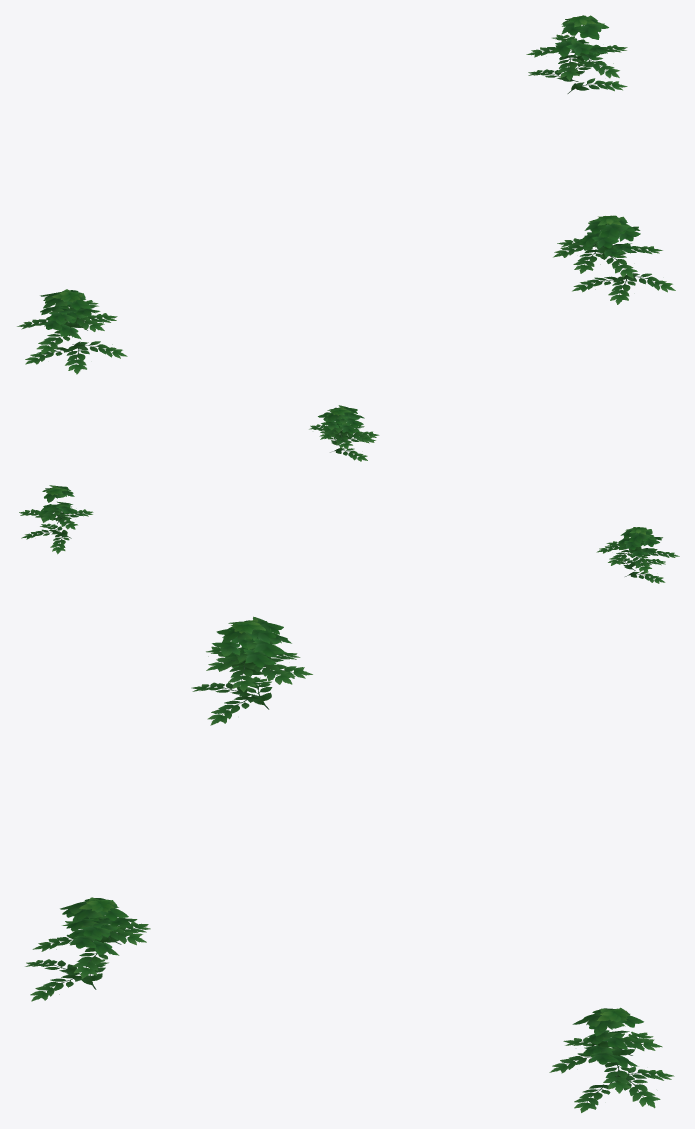
The model's file is scene_shinei_bulaite03.FBX.
The picture shows the model from 3 angles, top to bottom: view 1: azimuth 30°, elevation 25°; view 2: azimuth 150°, elevation 25°; view 3: azimuth 270°, elevation 25°; orthographic projection. The views are drawn at different scales.
Visible parts, largest first — view 1: scene_shinei_bulaite03; view 2: scene_shinei_bulaite03; view 3: scene_shinei_bulaite03.
Boxes of the visible parts, box(x1,y1,x2,y2) form: scene_shinei_bulaite03: box(17, 15, 675, 374); scene_shinei_bulaite03: box(19, 405, 679, 583); scene_shinei_bulaite03: box(25, 616, 674, 1112).
Size of the model in its own units: 1972 by 172 by 1231.
